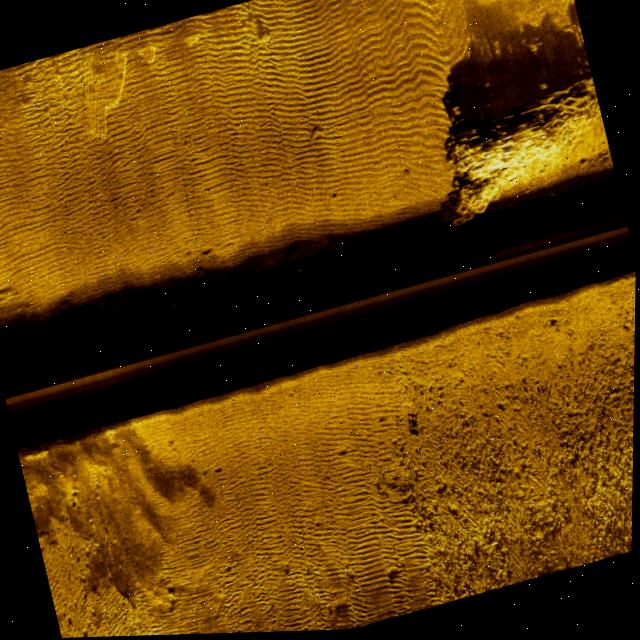artificial reef: (426, 74, 618, 226)
